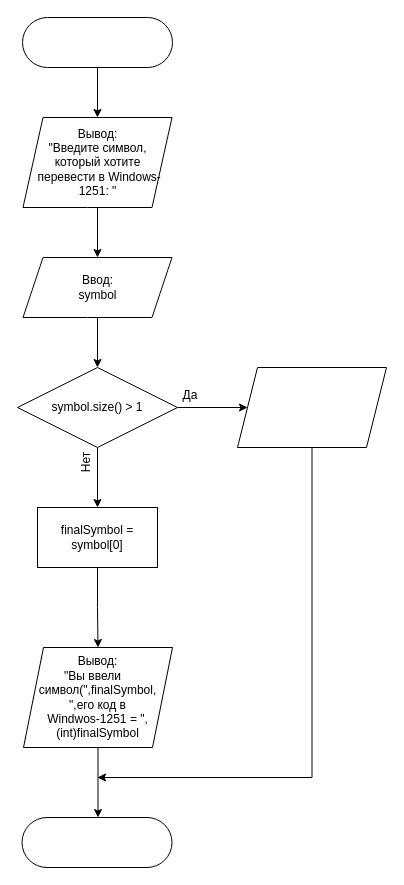
The diagram is 404 pixels wide and 885 high, and some of its shapes have lost their labels. Each missing label, with the box of its shape:
void convertSymbol() Начало: (22, 16, 172, 68)
Вывод: "Вы ввели больше одного символа": (236, 366, 386, 448)
Конец: (21, 816, 172, 868)
